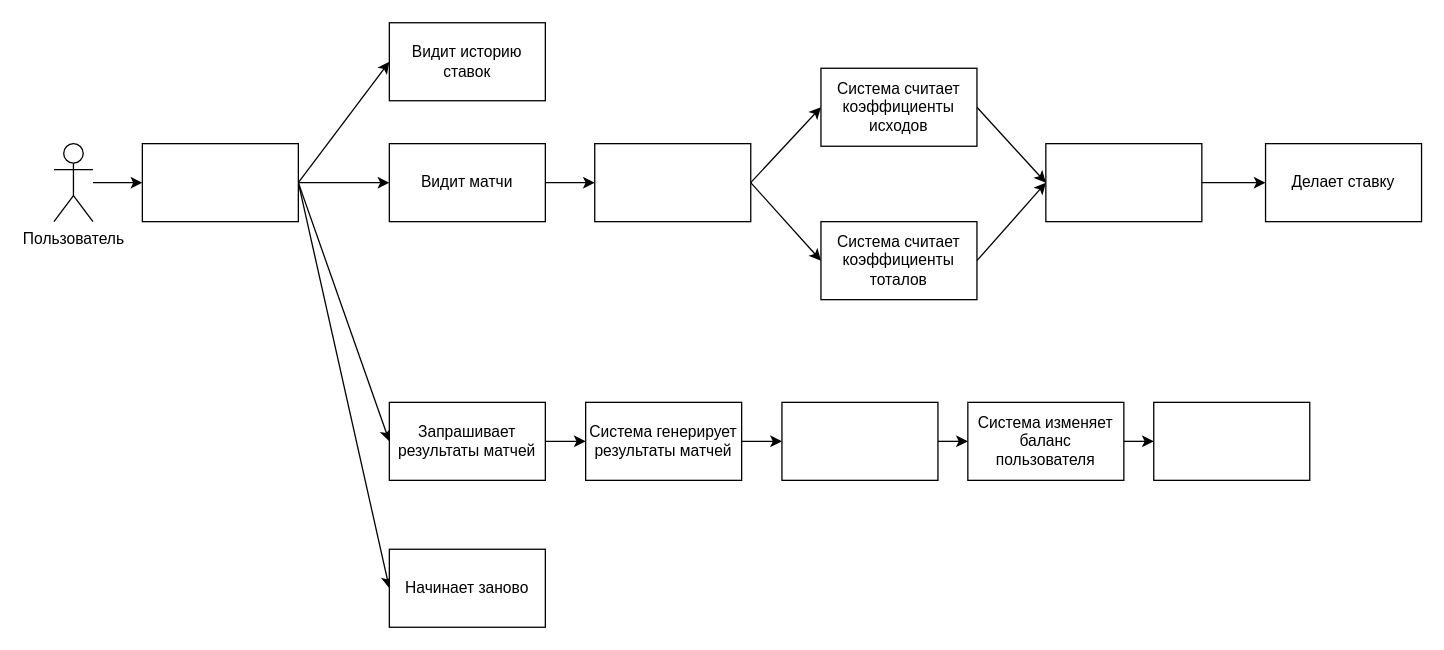
The diagram is 1444 pixels wide and 650 high, and some of its shapes have lost their labels. The shapes that lost their labels are listed below. From the top down, each one's centre as x and y in pixels, then its label:
At (x=219, y=182): "Заходит".
At (x=672, y=182): "Выбирает матч".
At (x=1123, y=182): "Выбирает событие и сумму".
At (x=859, y=440): "Система рассчитывает ставки".
At (x=1231, y=440): "Система переходит к следующему туру".
